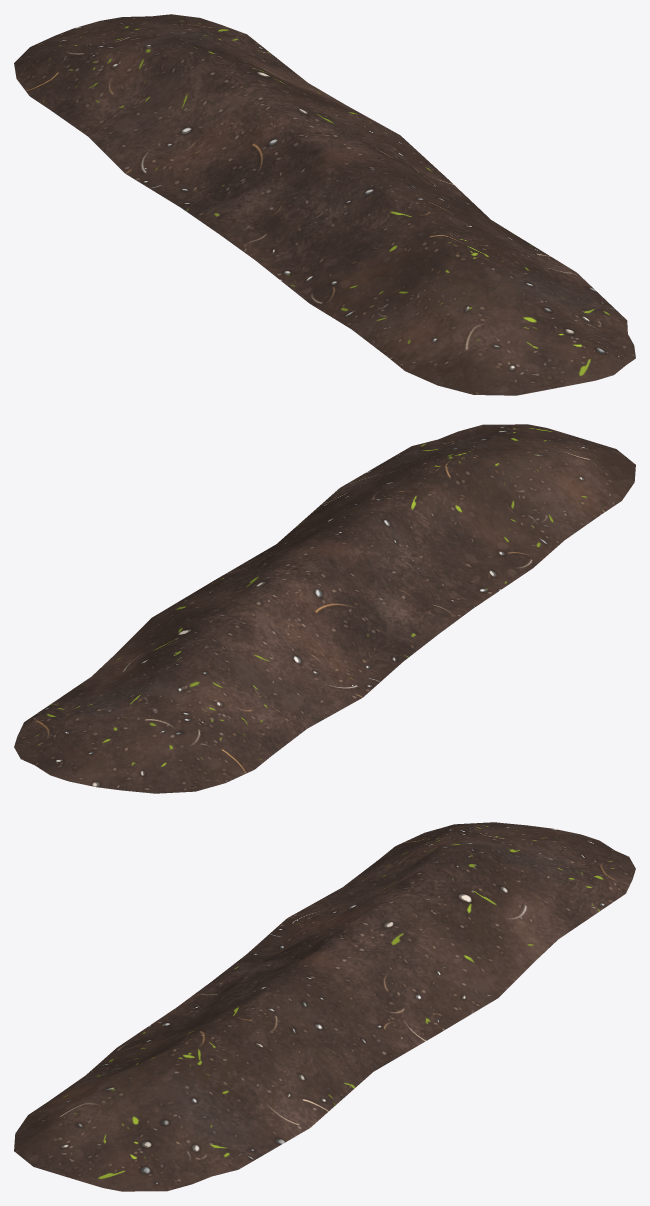
Rendered from soil_3m.fbx.
3 views of the same model, one above another, from view 1: azimuth 30°, elevation 25°; view 2: azimuth 150°, elevation 25°; view 3: azimuth 330°, elevation 25° (orthographic). The views are drawn at different scales.
Visible parts, largest first — view 1: soil_3m; view 2: soil_3m; view 3: soil_3m.
Part boxes in pixels (left/top/right/bottom): soil_3m: left=14, top=14, right=635, bottom=395; soil_3m: left=14, top=424, right=635, bottom=793; soil_3m: left=14, top=822, right=635, bottom=1191.
Bounding box in the file's own units: 80.18 × 18.53 × 278.
